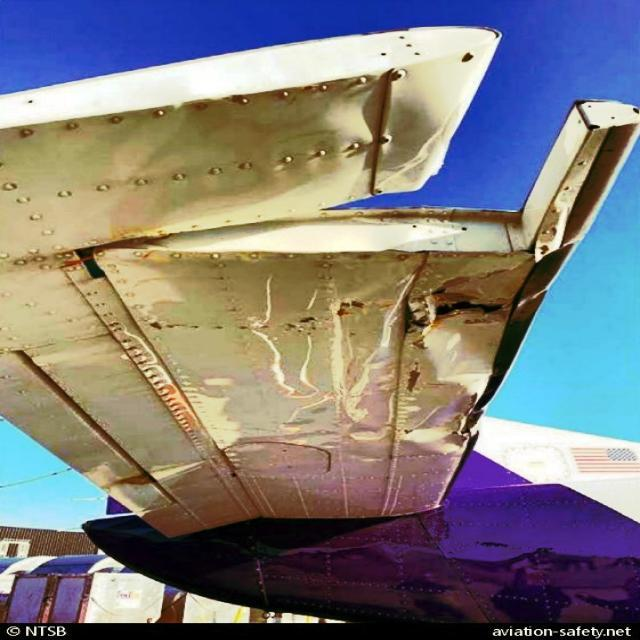dent: (410, 418, 470, 455)
